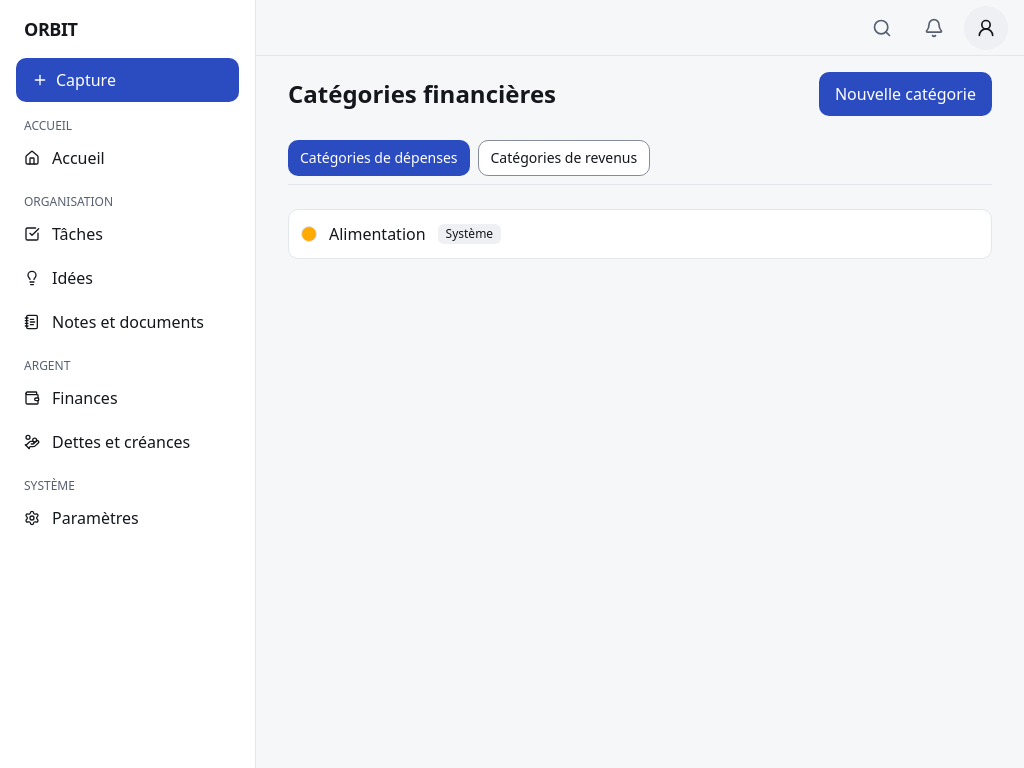
Test: Finance - Categories management (/finance/categories) › lists categories and creates a new category
Expected: the heading "Catégories financières" is shown, [288,78,556,110]
Expected: the text "Alimentation" is shown, [329,222,426,246]
Click the button "Nouvelle catégorie".
click(905, 94)  # box [819,72,992,116]
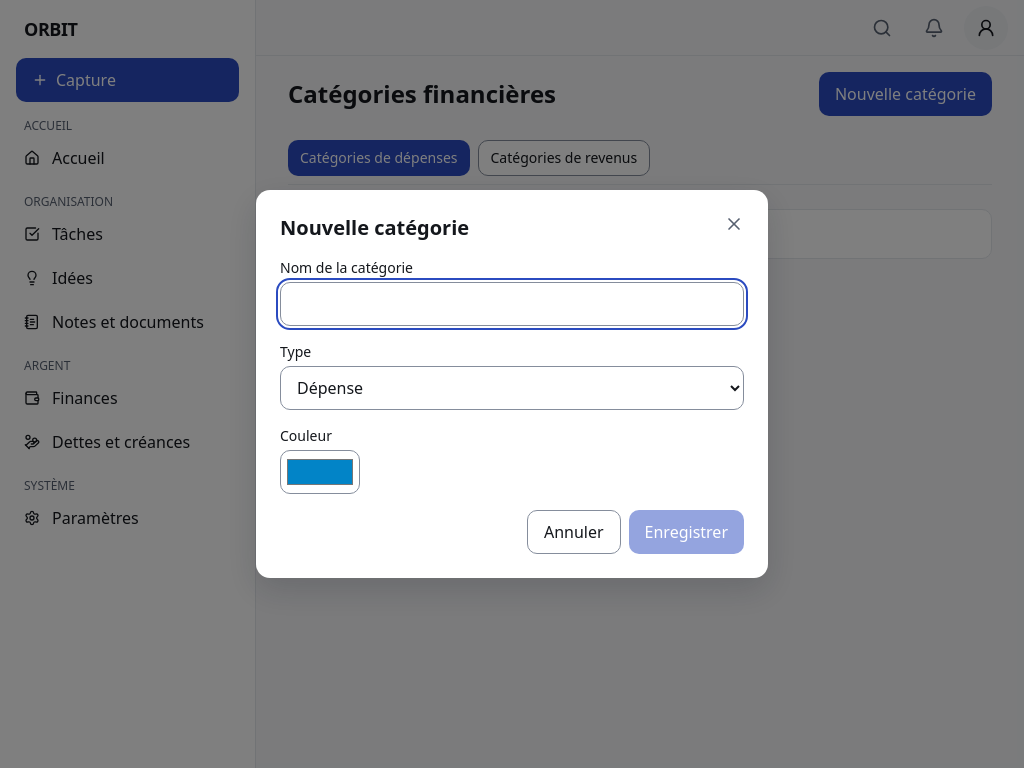
Now the heading "Nouvelle catégorie" is shown, box [280,214,469,241]
Type "Santé & Pharmacie" into the field labelled "Nom de la catégorie".
click(512, 304); type("Santé & Pharmacie")  # box [280,282,744,326]
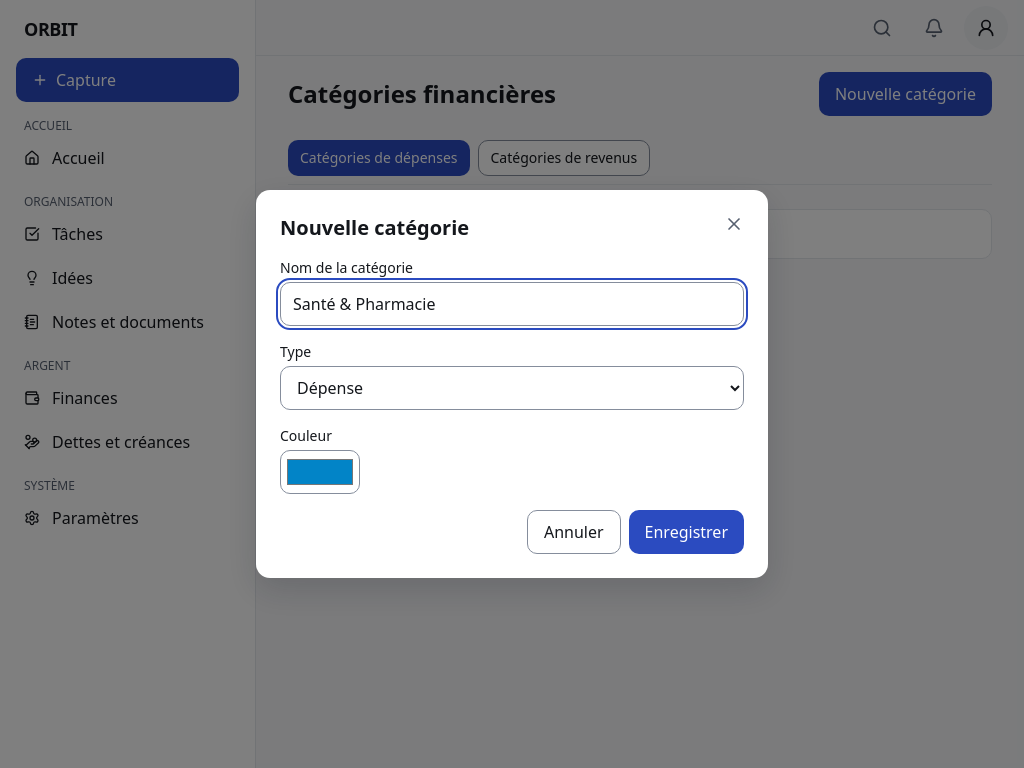
Click the button "Enregistrer".
click(686, 532)  # box [629,510,744,554]
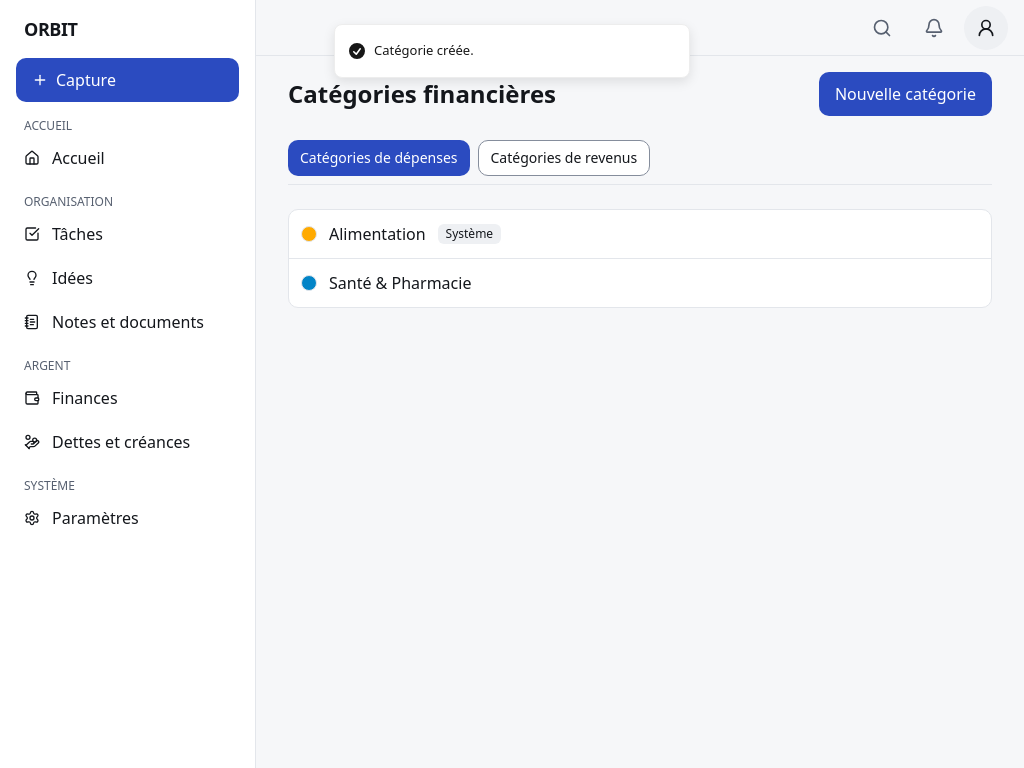
Now the text "Santé & Pharmacie" is shown, box [329,271,471,295]
